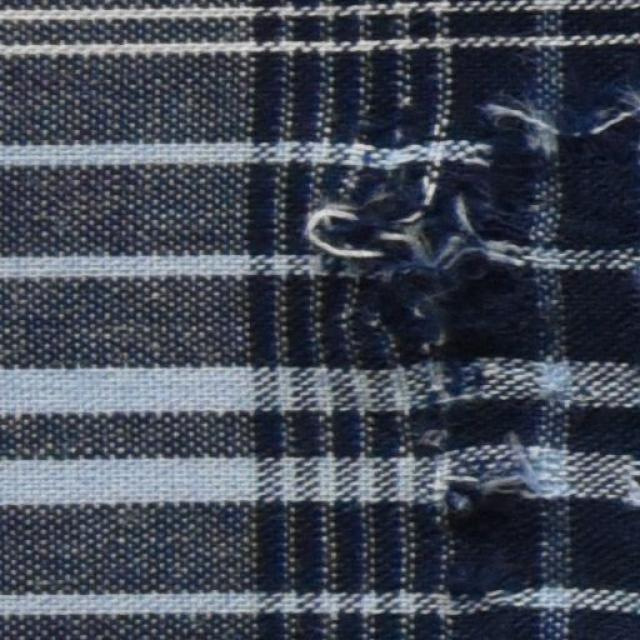Snag: (299, 80, 633, 603)
